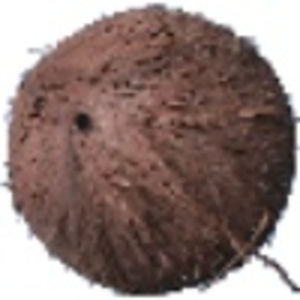coco: (1, 5, 300, 298)
